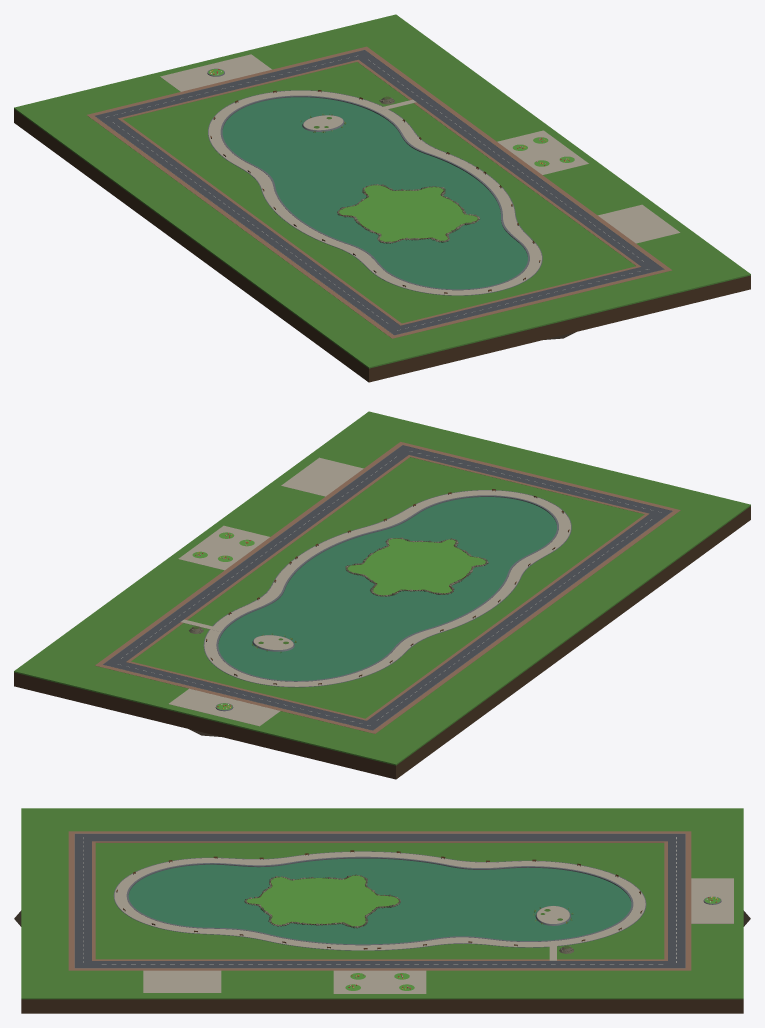
Rendered from island_base.glb.
3 renders of one model, top to bottom at view 1: azimuth 30°, elevation 25°; view 2: azimuth 150°, elevation 25°; view 3: azimuth 270°, elevation 25°, orthographic.
Visible parts, largest first — view 1: GroundMerged, LakeWater, SoilUnderbellyReedsDetails, CentralLawn; view 2: GroundMerged, LakeWater, SoilUnderbellyReedsDetails, CentralLawn; view 3: GroundMerged, LakeWater, SoilUnderbellyReedsDetails, CentralLawn.
Boxes of the visible parts, bbox=[...] form: GroundMerged: bbox=[14, 14, 750, 368]; LakeWater: bbox=[222, 97, 527, 289]; SoilUnderbellyReedsDetails: bbox=[14, 55, 750, 382]; CentralLawn: bbox=[208, 69, 574, 241]; GroundMerged: bbox=[14, 411, 750, 765]; LakeWater: bbox=[218, 497, 556, 680]; SoilUnderbellyReedsDetails: bbox=[14, 451, 750, 779]; CentralLawn: bbox=[192, 532, 485, 709]; GroundMerged: bbox=[21, 808, 743, 999]; LakeWater: bbox=[128, 858, 631, 944]; SoilUnderbellyReedsDetails: bbox=[14, 837, 750, 1013]; CentralLawn: bbox=[246, 875, 720, 990].
Size of the model in its own units: 184 by 22.53 by 302.
